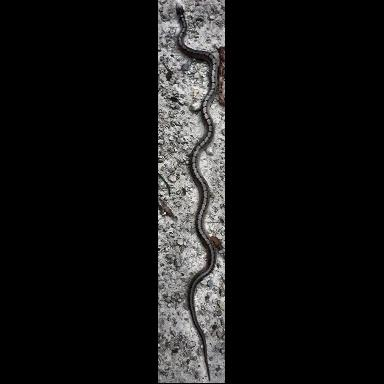snake: (163, 1, 226, 383)
